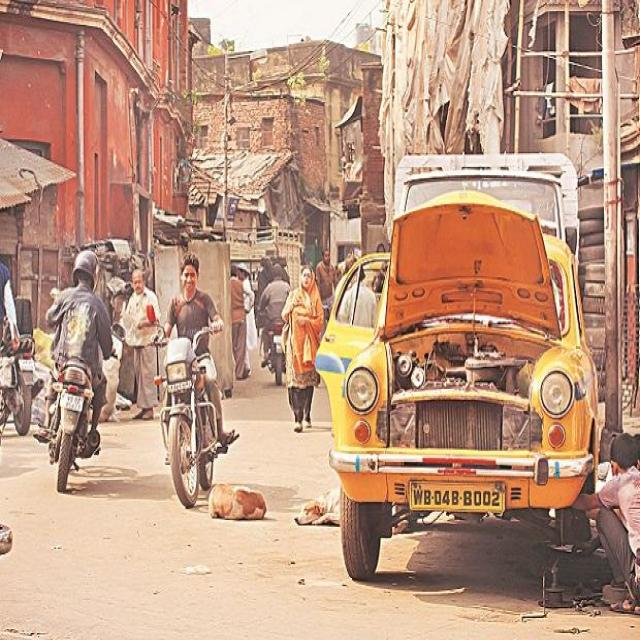accident: (312, 194, 595, 578)
motorcycle: (154, 254, 239, 507), (45, 249, 112, 492)
